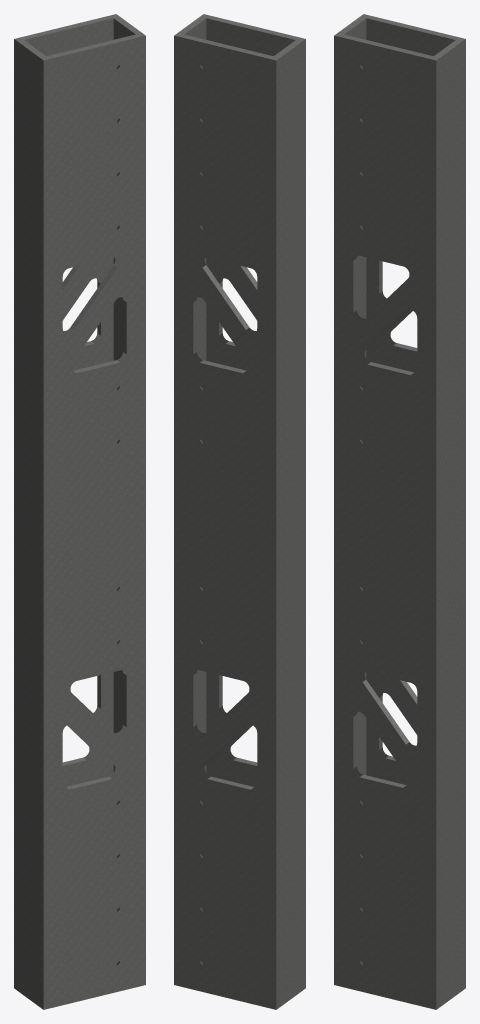
The model's file is camera_lift.dae.
3 renders of one model, left to right at view 1: azimuth 30°, elevation 25°; view 2: azimuth 150°, elevation 25°; view 3: azimuth 330°, elevation 25°, orthographic.
Visible parts, largest first — view 1: SketchUp; view 2: SketchUp; view 3: SketchUp.
Part boxes in pixels (bbox=[...]): SketchUp: bbox=[14, 14, 145, 1009]; SketchUp: bbox=[174, 14, 305, 1009]; SketchUp: bbox=[334, 14, 465, 1009].
Size of the model in its own units: 2 by 1 by 17.75.
Materials: 1 (1 with a texture image).
